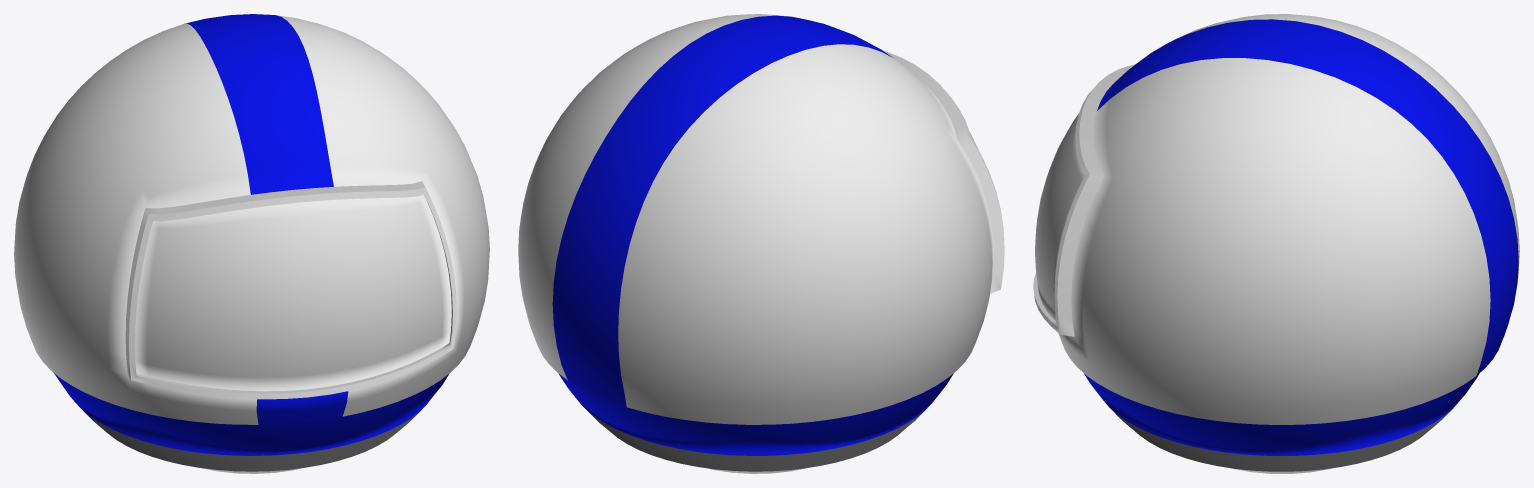
Rendered from quantum_zero_study.fbx.
3 renders of one model, left to right at view 1: azimuth 30°, elevation 25°; view 2: azimuth 150°, elevation 25°; view 3: azimuth 270°, elevation 25°, orthographic.
Visible parts, largest first — view 1: Top, Screen, Bottom; view 2: Top, Bottom; view 3: Top, Bottom, Screen.
Part boxes in pixels (bbox=[...]): Top: bbox=[14, 14, 489, 424]; Screen: bbox=[135, 195, 451, 391]; Bottom: bbox=[53, 372, 448, 473]; Top: bbox=[518, 14, 1004, 424]; Bottom: bbox=[558, 373, 953, 473]; Top: bbox=[1033, 14, 1519, 424]; Bottom: bbox=[1084, 373, 1479, 473]; Screen: bbox=[1035, 114, 1084, 321].
Size of the model in its own units: 0.4757 by 0.4591 by 0.4862.
